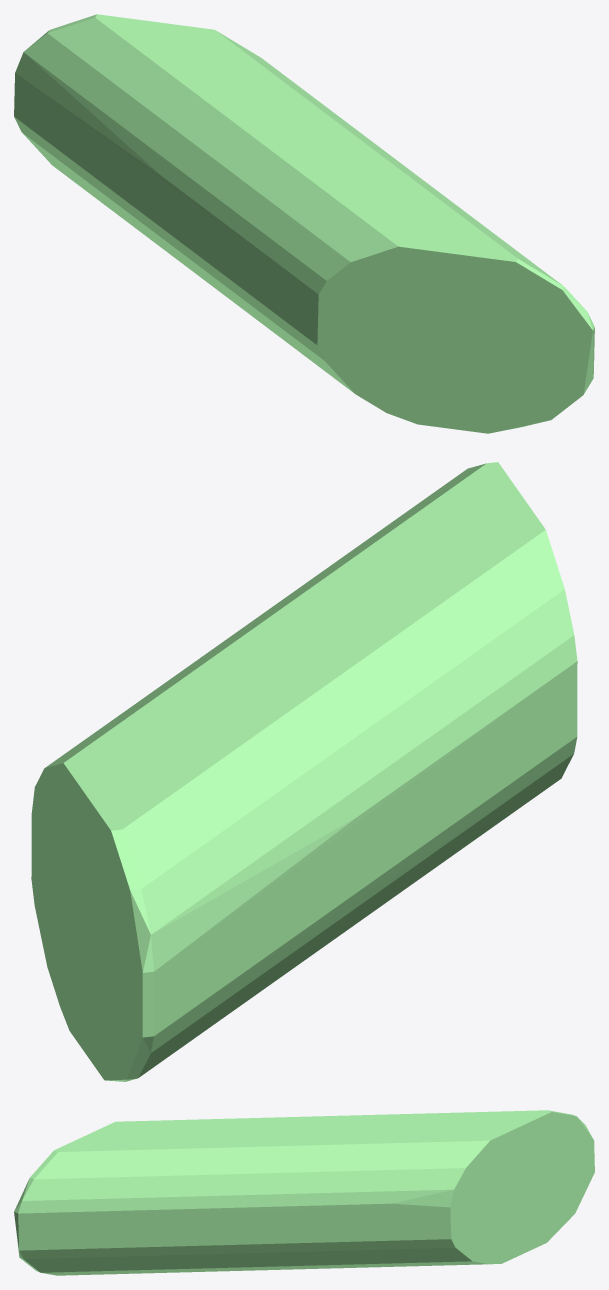
Rendered from dvkr_robot_C_link2_respondable_coll_1.dae.
3 views of the same model, one above another, from view 1: azimuth 30°, elevation 25°; view 2: azimuth 150°, elevation 25°; view 3: azimuth 270°, elevation 25° (orthographic). The views are drawn at different scales.
Parts seen in each view (by area): view 1: Node_0000023515114650; view 2: Node_0000023515114650; view 3: Node_0000023515114650.
Boxes of the visible parts, <box> form: Node_0000023515114650: <box>14,14,594,433</box>; Node_0000023515114650: <box>31,462,577,1081</box>; Node_0000023515114650: <box>14,1110,594,1275</box>.
Bounding box in the file's own units: 0.1358 × 0.1326 × 0.5032.
